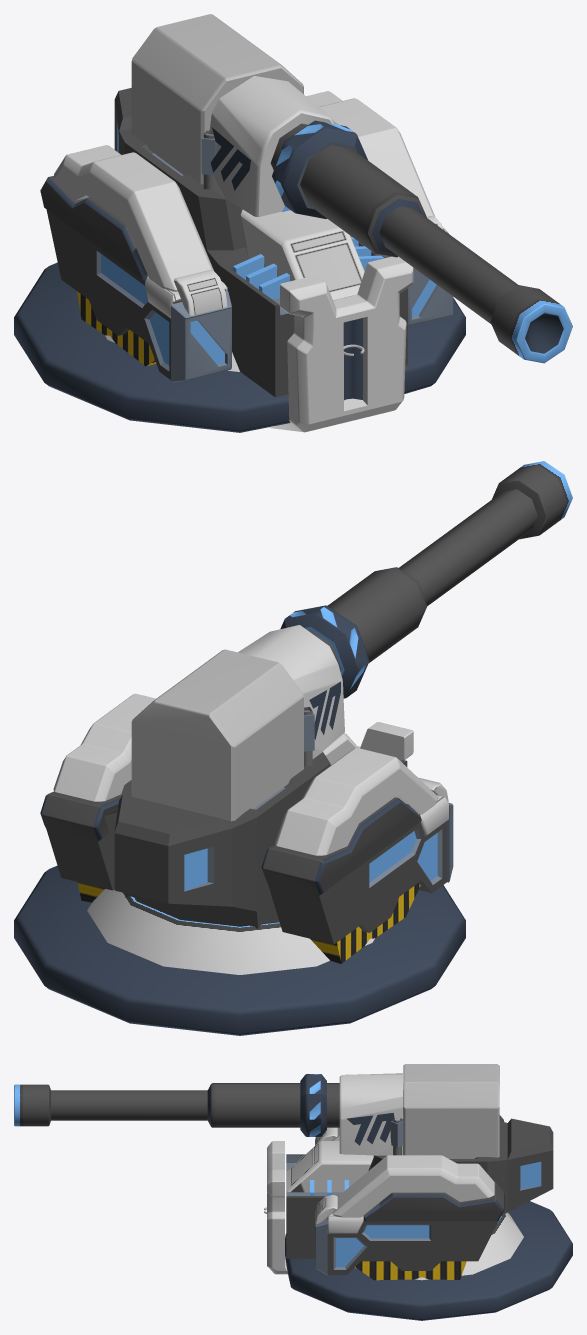
Rendered from Artillery.fbx.
The picture shows the model from 3 angles, top to bottom: view 1: azimuth 30°, elevation 25°; view 2: azimuth 150°, elevation 25°; view 3: azimuth 270°, elevation 25°; orthographic projection. The views are drawn at different scales.
Visible parts, largest first — view 1: main, gun, gun2; view 2: main, gun, gun2; view 3: main, gun, gun2.
Part boxes in pixels (box(x1,y1,x2,y2)): main: box(14, 88, 465, 432); gun: box(131, 14, 426, 257); gun2: box(379, 206, 572, 363); main: box(14, 693, 465, 1035); gun: box(131, 567, 427, 821); gun2: box(399, 461, 572, 605); main: box(267, 1083, 572, 1320); gun: box(207, 1064, 499, 1158); gun2: box(14, 1084, 207, 1126).
Size of the model in its own units: 4.5 by 3.07 by 8.32.
